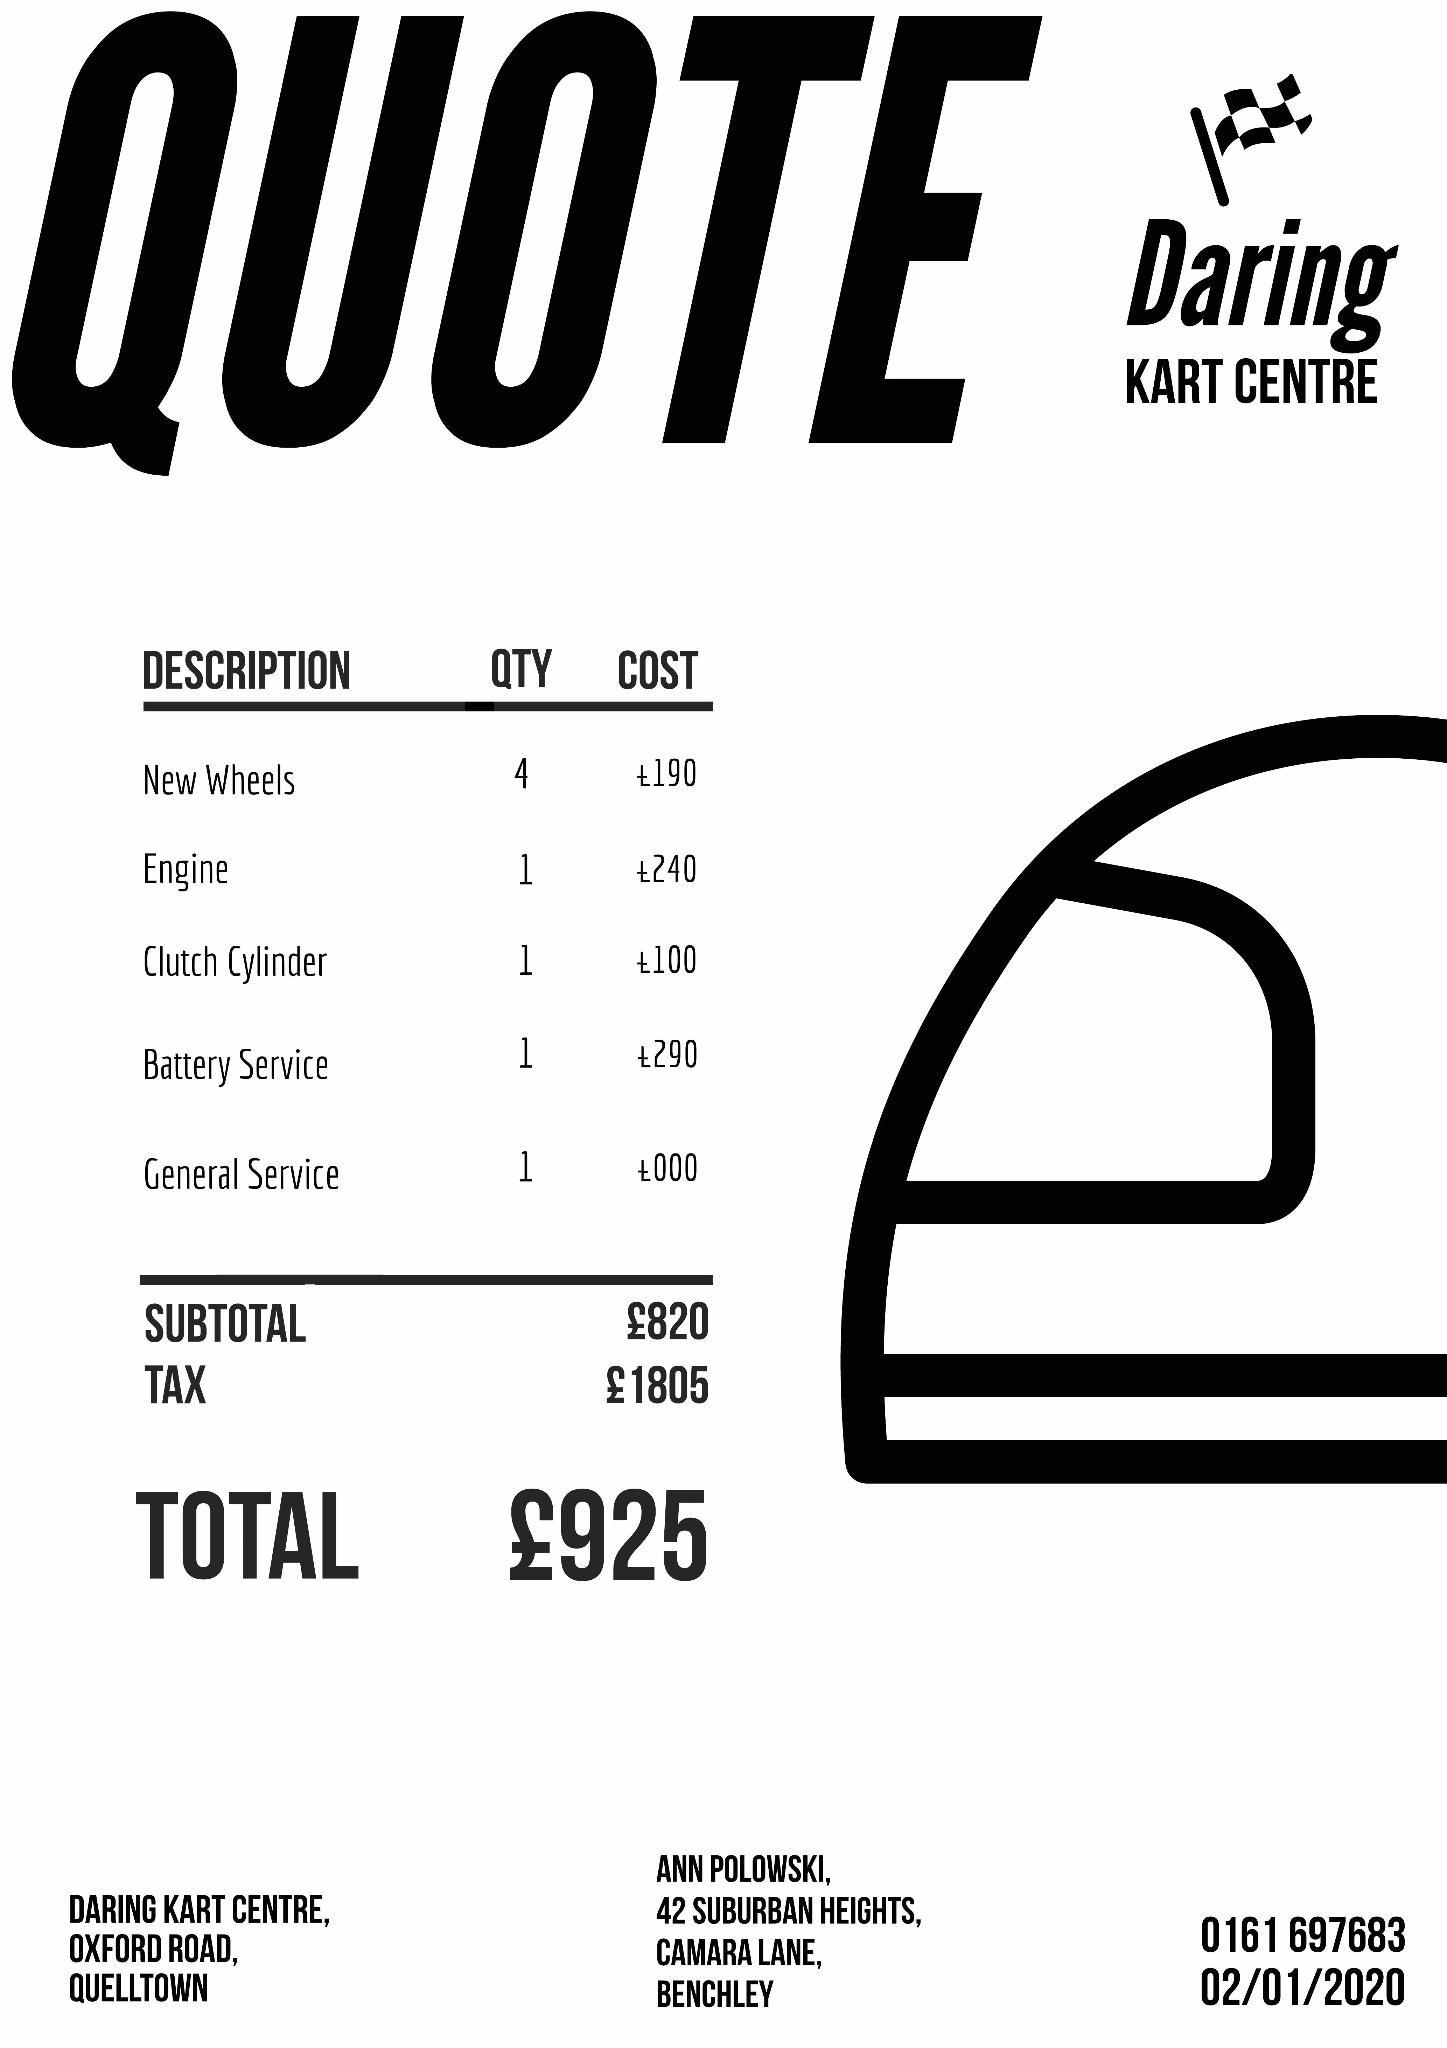ROI: (5, 1, 1052, 466), (131, 621, 724, 1234), (127, 1284, 741, 1607), (628, 1844, 954, 2011), (1125, 222, 1399, 418), (54, 1879, 349, 2014), (1171, 1907, 1416, 2016)
